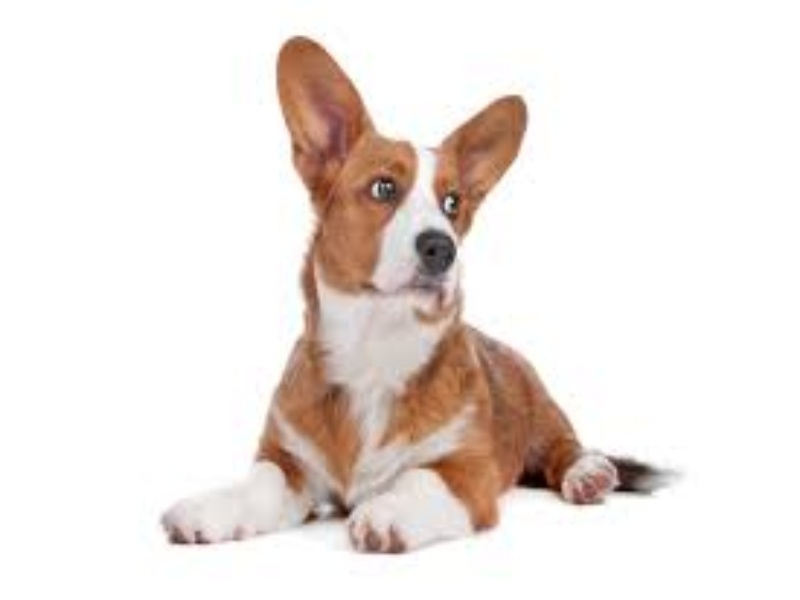dog: (159, 31, 679, 565)
